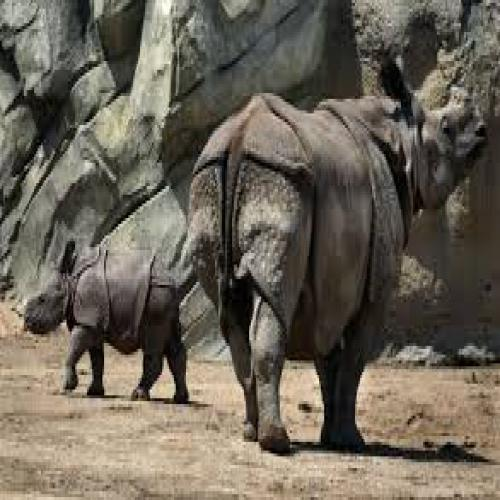rhino-endangered: (185, 58, 482, 448), (22, 244, 190, 404)
